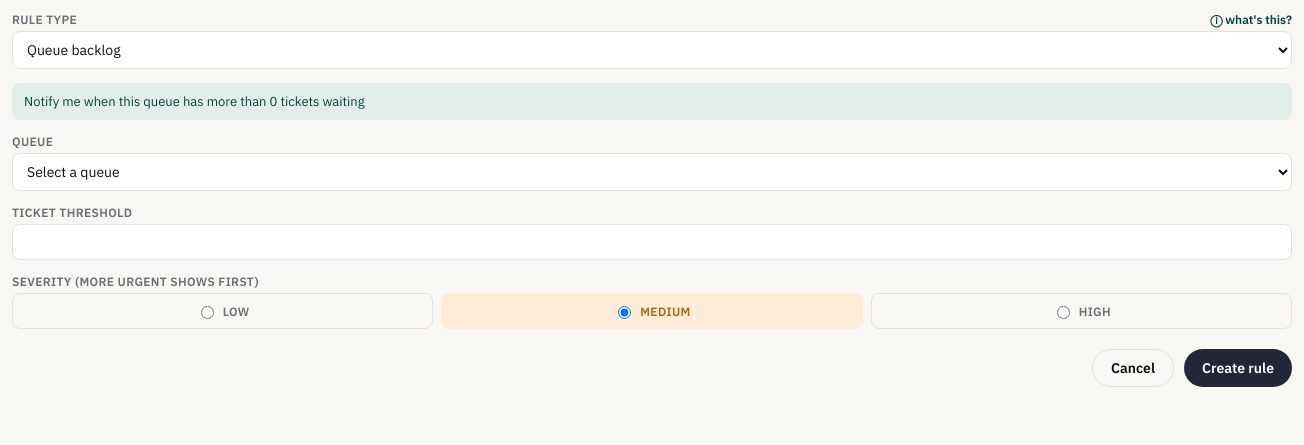
it: RuleForm — entity selection › shows agent checkboxes, not a free-text field, for multi-agent rules
Select "Long call" in the dropdown labelled "Rule type" at (652, 50), box [12, 31, 1292, 69]
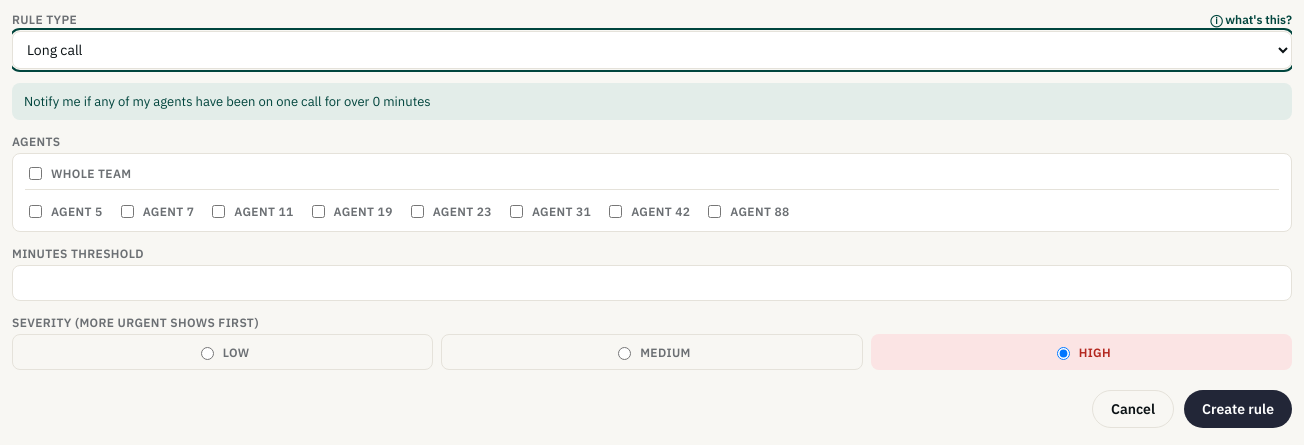
Expected: the checkbox labelled "Agent 31" is shown, [510, 205, 523, 218]
Expected: the checkbox labelled "Agent 11" is shown, [212, 205, 225, 218]
